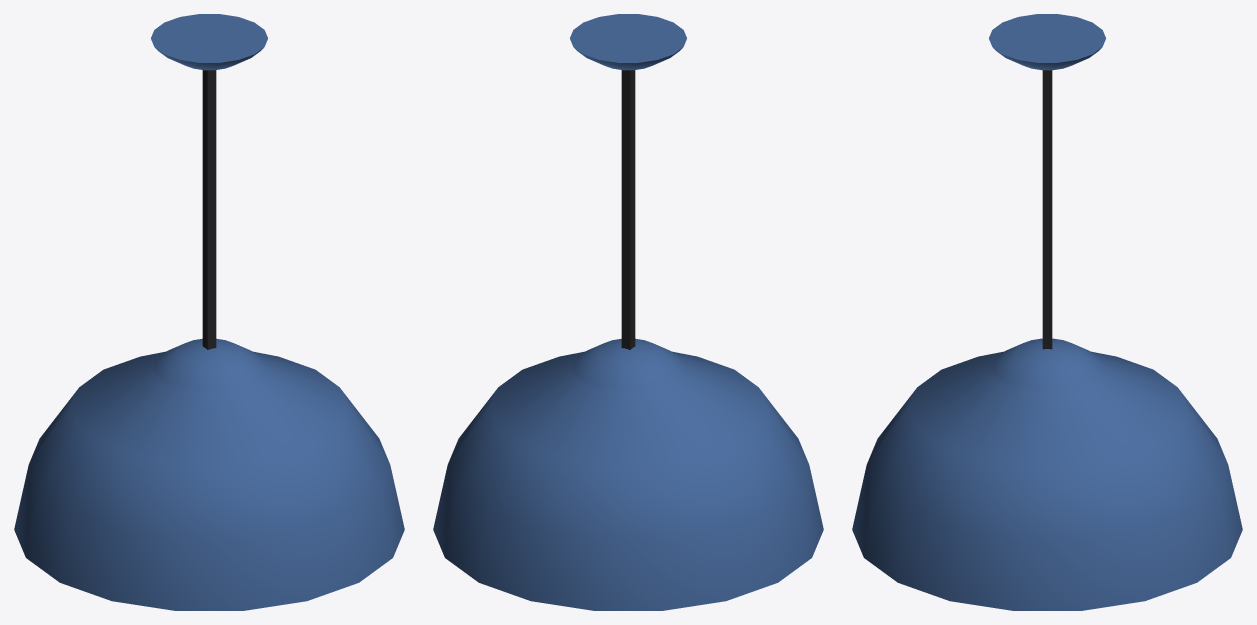
The model's file is Ceiling light for kitchen.fbx.
The picture shows the model from 3 angles, left to right: view 1: azimuth 30°, elevation 25°; view 2: azimuth 150°, elevation 25°; view 3: azimuth 270°, elevation 25°; orthographic projection.
Visible parts, largest first — view 1: ceiling light for kitchen; view 2: ceiling light for kitchen; view 3: ceiling light for kitchen.
Boxes of the visible parts, box(x1,y1,x2,y2) form: ceiling light for kitchen: box(14, 14, 404, 610); ceiling light for kitchen: box(433, 14, 823, 610); ceiling light for kitchen: box(852, 14, 1242, 610).
Bounding box in the file's own units: 154 × 221 × 156.
